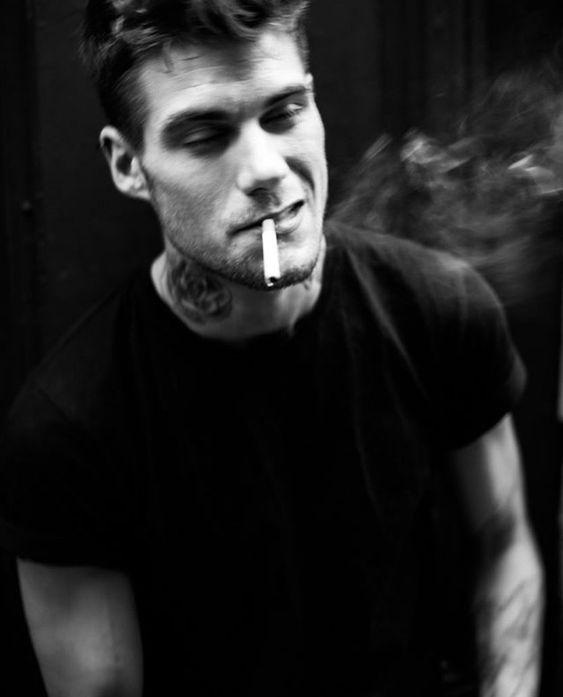cigarette: (263, 218, 281, 287)
